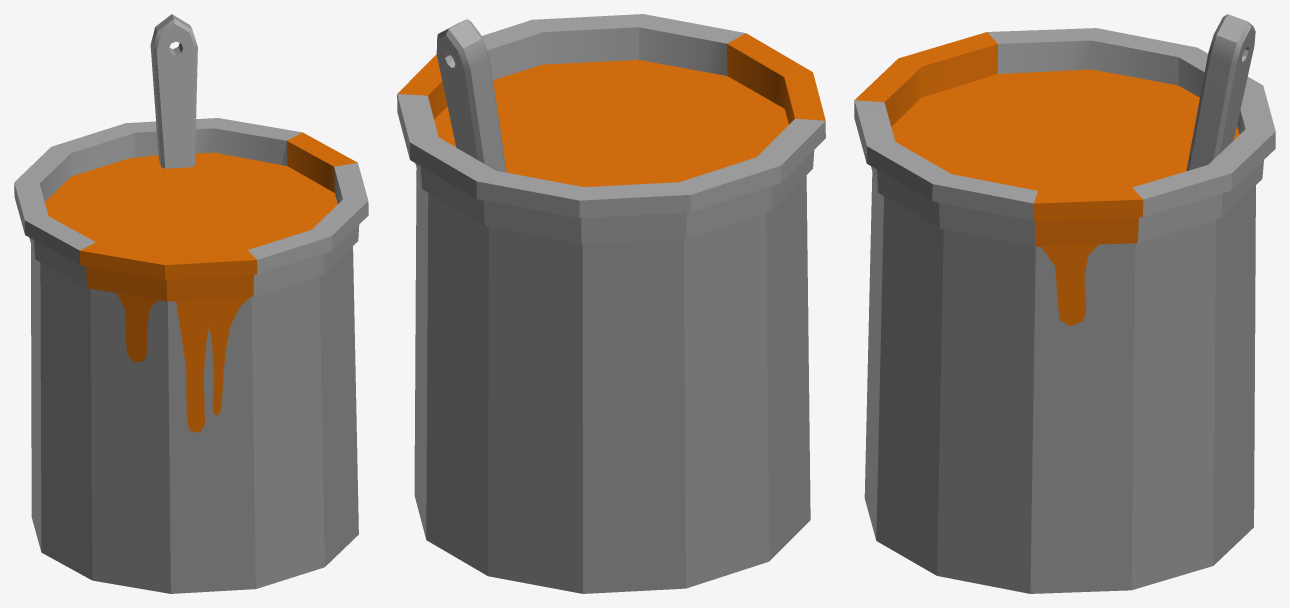
File: bucket.fbx
The picture shows the model from 3 angles, left to right: view 1: azimuth 30°, elevation 25°; view 2: azimuth 150°, elevation 25°; view 3: azimuth 270°, elevation 25°; orthographic projection. The views are drawn at different scales.
Visible parts, largest first — view 1: pCube3; view 2: pCube3; view 3: pCube3.
Boxes of the visible parts, x1=… form: pCube3: x1=14, y1=14, x2=368, y2=593; pCube3: x1=397, y1=14, x2=825, y2=593; pCube3: x1=854, y1=14, x2=1275, y2=593.
Bounding box in the file's own units: 85.46 × 119 × 85.48.
